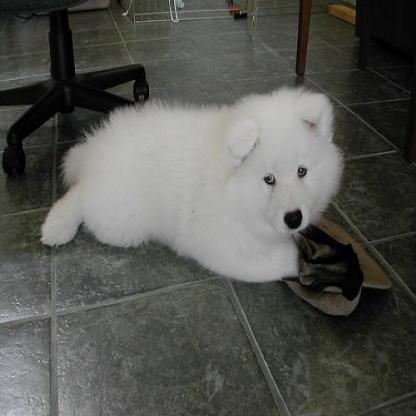Samoyed: (38, 83, 346, 283)
